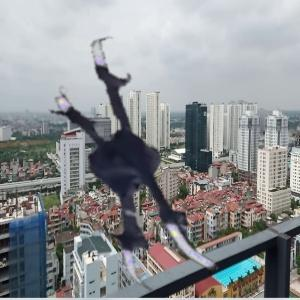drone: (26, 35, 280, 289)
